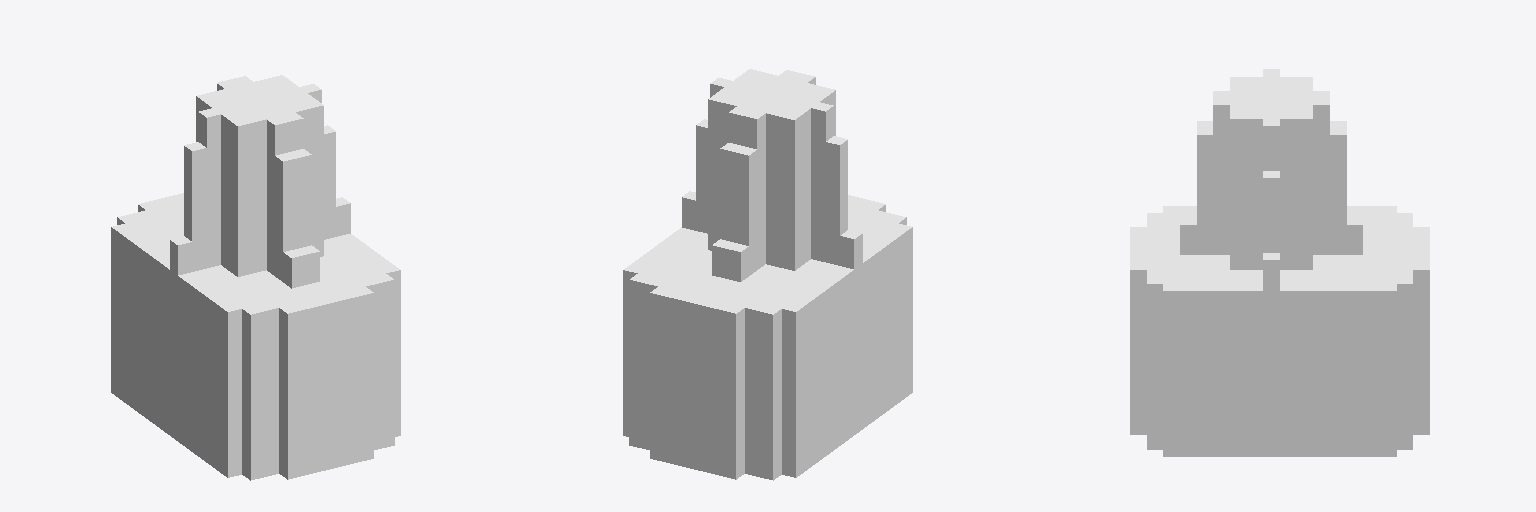
The model's file is ship-0-top.obj.
The picture shows the model from 3 angles: view 1: azimuth 30°, elevation 25°; view 2: azimuth 150°, elevation 25°; view 3: azimuth 270°, elevation 25°; orthographic projection.
Visible parts, largest first — view 1: top; view 2: top; view 3: top.
Part boxes in pixels (left/top/right/bottom): top: left=111, top=75, right=400, bottom=480; top: left=623, top=69, right=912, bottom=480; top: left=1130, top=69, right=1429, bottom=456.
Size of the model in its own units: 1.2 by 2.1 by 1.8.